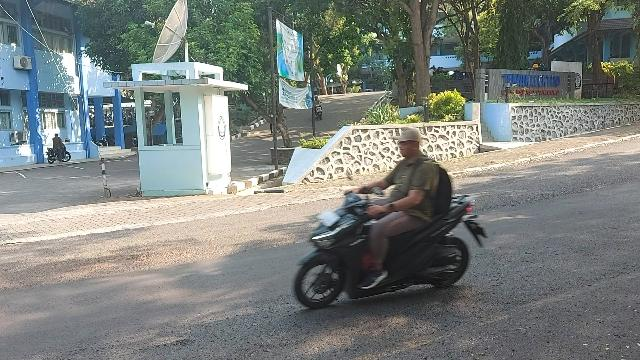motor: (294, 171, 488, 311)
non-helm: (391, 131, 422, 159)
